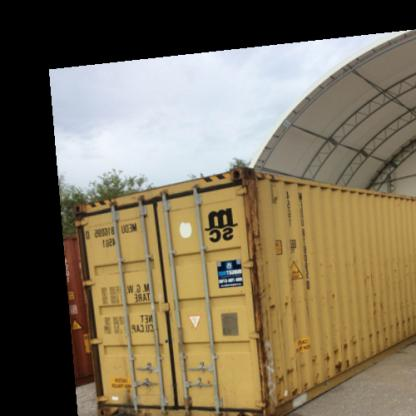Damage: (239, 170, 275, 412)
